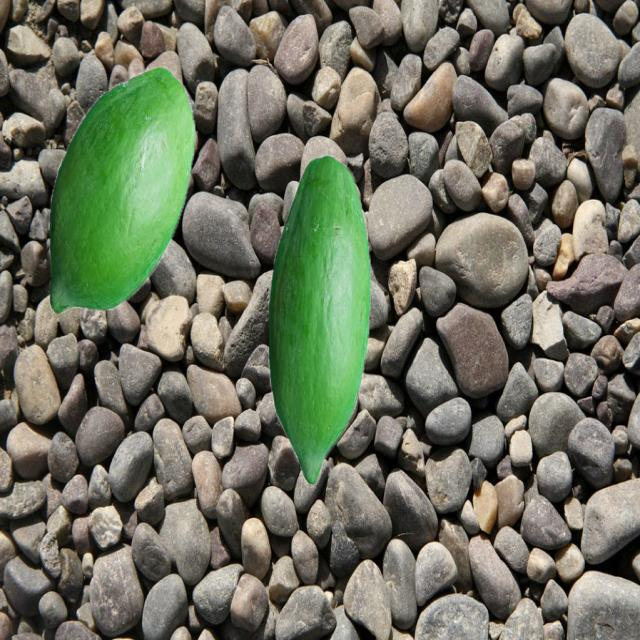Pepaya unrippen: (35, 61, 206, 322), (264, 155, 368, 476)
